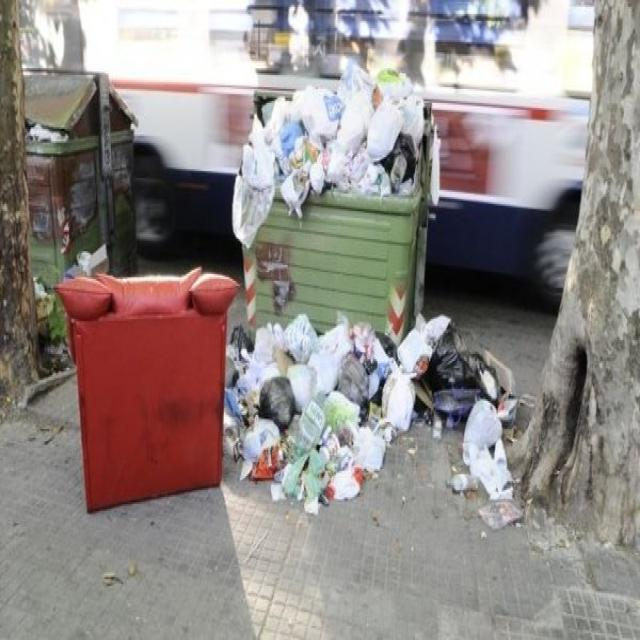garbage: (52, 276, 266, 523), (232, 324, 518, 440), (243, 106, 441, 206), (228, 390, 379, 500), (452, 413, 515, 534)
